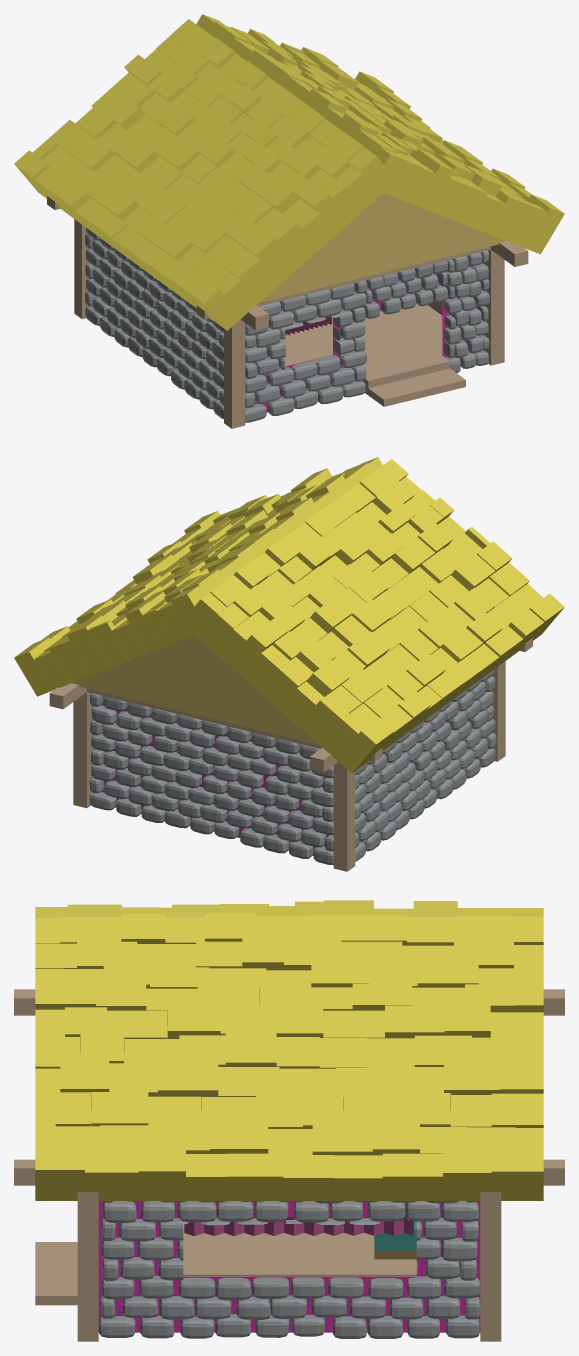
File: house_1c.glb
3 views of the same model, one above another, from view 1: azimuth 30°, elevation 25°; view 2: azimuth 150°, elevation 25°; view 3: azimuth 270°, elevation 25° (orthographic). The views are drawn at different scales.
Visible parts, largest first — view 1: Mesh_Mesh_head_geo.001_lambert2SG.001; view 2: Mesh_Mesh_head_geo.001_lambert2SG.001; view 3: Mesh_Mesh_head_geo.001_lambert2SG.001.
Boxes of the visible parts, bbox=[...] form: Mesh_Mesh_head_geo.001_lambert2SG.001: bbox=[14, 14, 564, 428]; Mesh_Mesh_head_geo.001_lambert2SG.001: bbox=[14, 457, 564, 871]; Mesh_Mesh_head_geo.001_lambert2SG.001: bbox=[14, 900, 564, 1341].
Bounding box in the file's own units: 26.53 × 18.07 × 26.
